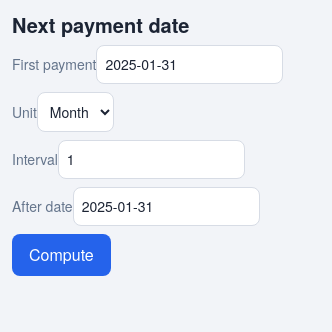
Test case: NextDueCard › affiche la prochaine échéance (31 janv -> 28 févr)
Click the button with test id "nextdue-compute" at (61, 255), box [12,234,111,276]
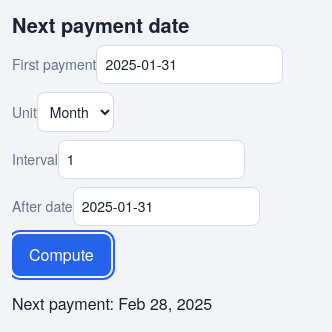
Expected: the text with test id "nextdue-result" shows "Feb 28, 2025", [118,292,212,315]
